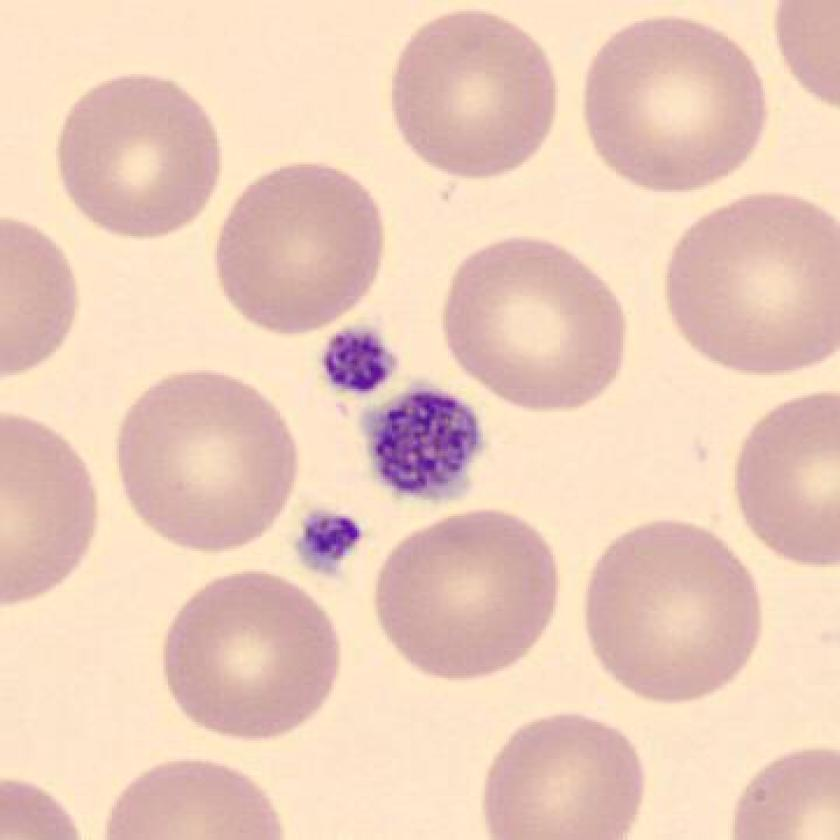platelets: (363, 383, 493, 517), (291, 501, 375, 586), (318, 320, 400, 406)
